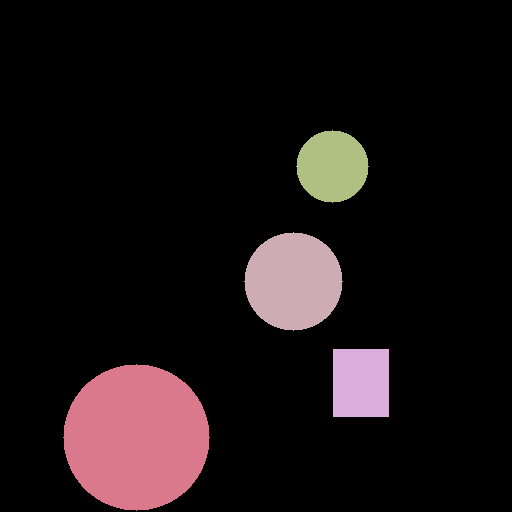circle: (63, 364, 209, 510), (244, 232, 342, 330), (296, 130, 368, 202)
rectangle: (333, 349, 388, 416)
